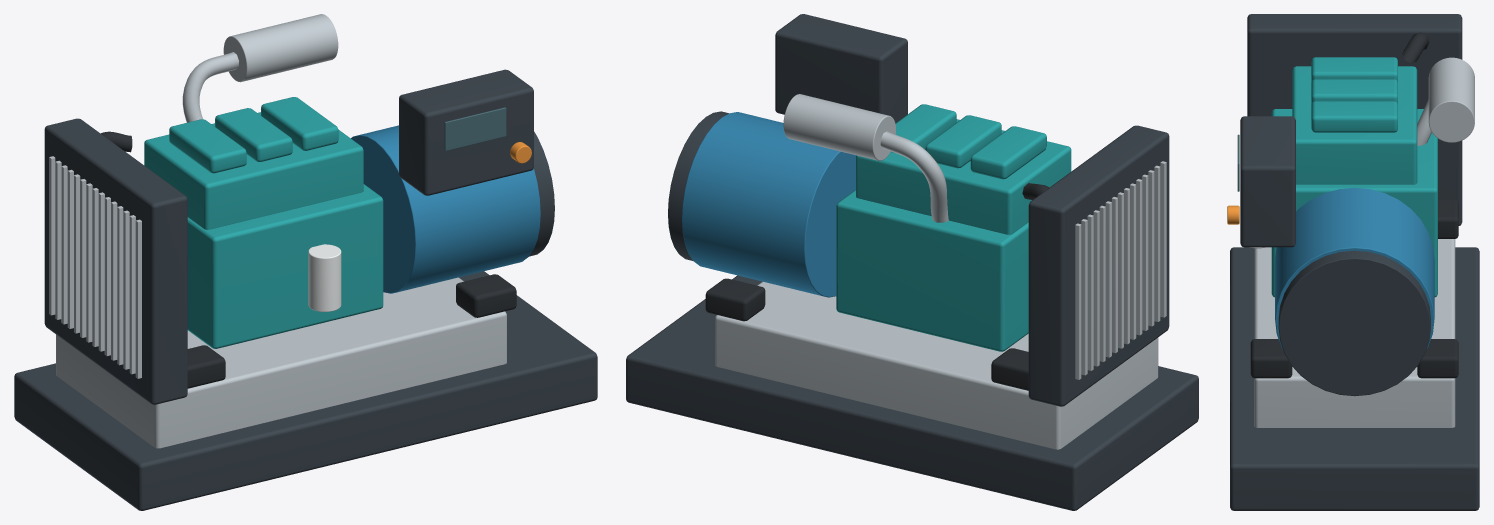
Rendered from generator.glb.
The picture shows the model from 3 angles, left to right: view 1: azimuth 30°, elevation 25°; view 2: azimuth 150°, elevation 25°; view 3: azimuth 270°, elevation 25°; orthographic projection.
Visible parts, largest first — view 1: Common skid, Fuel tank, Engine block, Radiator, Alternator, Cylinder cover, Control housing, Silencer, Rocker cover, Rocker cover.002, Rocker cover.001, Oil filter (+20 smaller); view 2: Common skid, Fuel tank, Alternator, Engine block, Radiator, Control housing, Cylinder cover, Silencer, Rocker cover, Rocker cover.001, Alternator end, Exhaust riser (+18 smaller); view 3: Common skid, Alternator end, Radiator, Fuel tank, Alternator, Cylinder cover, Control housing, Engine block, Silencer, Rocker cover.002, Rocker cover, Rocker cover.001 (+5 smaller).
Boxes of the visible parts, <box> form: Common skid: <box>14,271,597,510</box>; Fuel tank: <box>56,277,506,448</box>; Engine block: <box>187,184,383,348</box>; Radiator: <box>44,118,187,404</box>; Alternator: <box>351,125,540,293</box>; Cylinder cover: <box>144,112,363,229</box>; Control housing: <box>399,69,533,195</box>; Silencer: <box>223,14,338,82</box>; Rocker cover: <box>169,119,246,173</box>; Rocker cover.002: <box>261,97,338,150</box>; Rocker cover.001: <box>215,108,292,161</box>; Oil filter: <box>308,244,341,311</box>; Common skid: <box>626,275,1198,510</box>; Fuel tank: <box>715,281,1158,449</box>; Alternator: <box>682,112,856,297</box>; Engine block: <box>836,190,1028,351</box>; Radiator: <box>1028,125,1169,406</box>; Control housing: <box>775,14,907,123</box>; Cylinder cover: <box>856,119,1071,234</box>; Silencer: <box>783,94,895,160</box>; Rocker cover: <box>970,126,1046,179</box>; Rocker cover.001: <box>925,115,1001,168</box>; Alternator end: <box>668,111,728,260</box>; Exhaust riser: <box>880,131,948,222</box>; Common skid: <box>1230,247,1479,510</box>; Alternator end: <box>1278,250,1430,396</box>; Radiator: <box>1247,14,1462,225</box>; Fuel tank: <box>1254,239,1455,427</box>; Alternator: <box>1275,188,1434,349</box>; Cylinder cover: <box>1292,66,1417,184</box>; Control housing: <box>1240,116,1295,247</box>; Engine block: <box>1271,109,1437,297</box>; Silencer: <box>1428,57,1474,142</box>; Rocker cover.002: <box>1311,101,1397,132</box>; Rocker cover: <box>1311,57,1397,82</box>; Rocker cover.001: <box>1311,79,1397,104</box>.
Bounding box in the file's own units: 1.5 × 1.07 × 0.7275.
